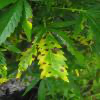Tomato leaf bacterial spot: (37, 30, 71, 83), (13, 31, 44, 78), (16, 2, 37, 42), (69, 12, 88, 39)
